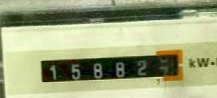1: (48, 63, 58, 81)
2: (136, 58, 147, 75)
5: (69, 62, 81, 79)
7: (158, 64, 169, 77)
8: (92, 61, 103, 78), (115, 60, 125, 77)
screen: (34, 46, 189, 87)
